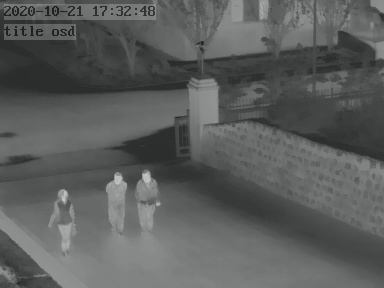person: (52, 188, 76, 254), (104, 171, 127, 237), (136, 170, 159, 236)
